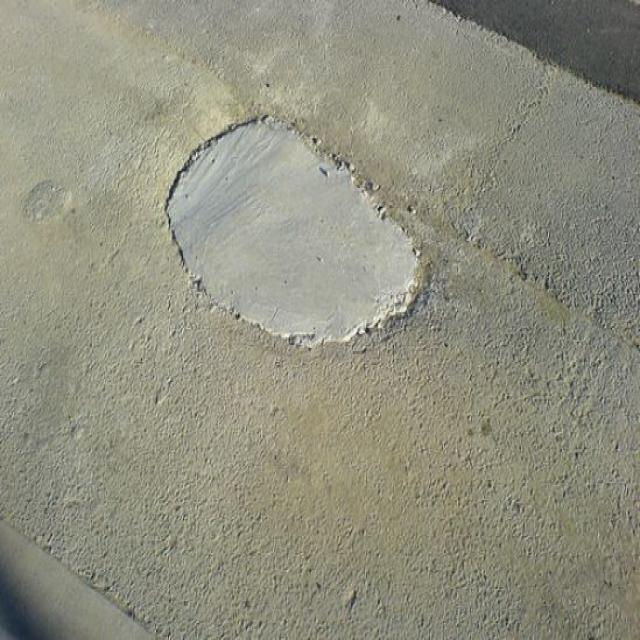pothole: (158, 104, 432, 346)
